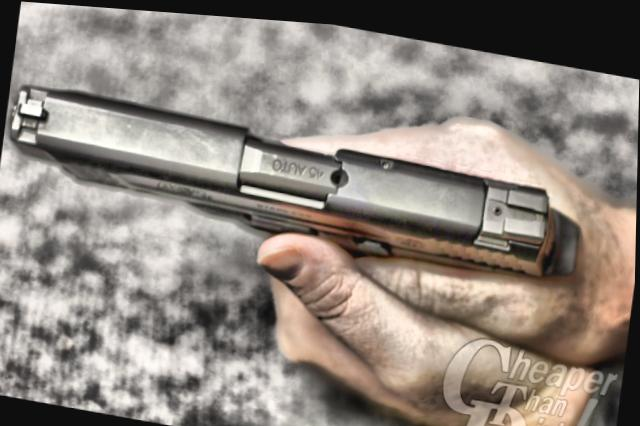pistol: (0, 62, 569, 299)
